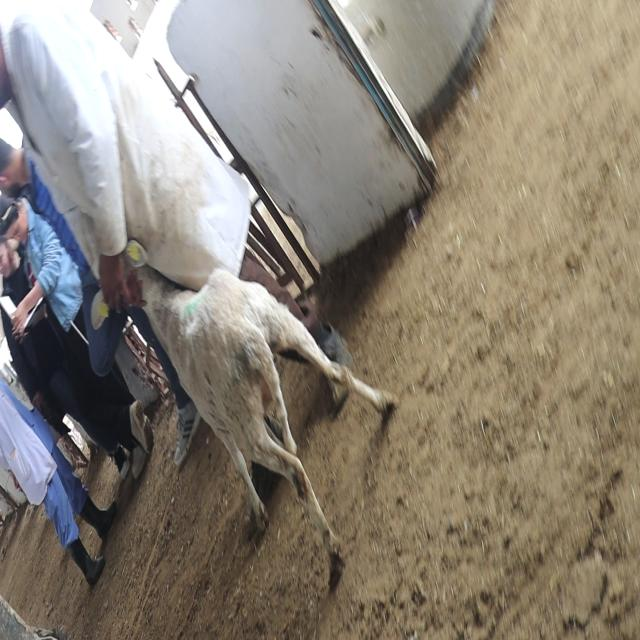Score_1: (122, 240, 394, 575)
